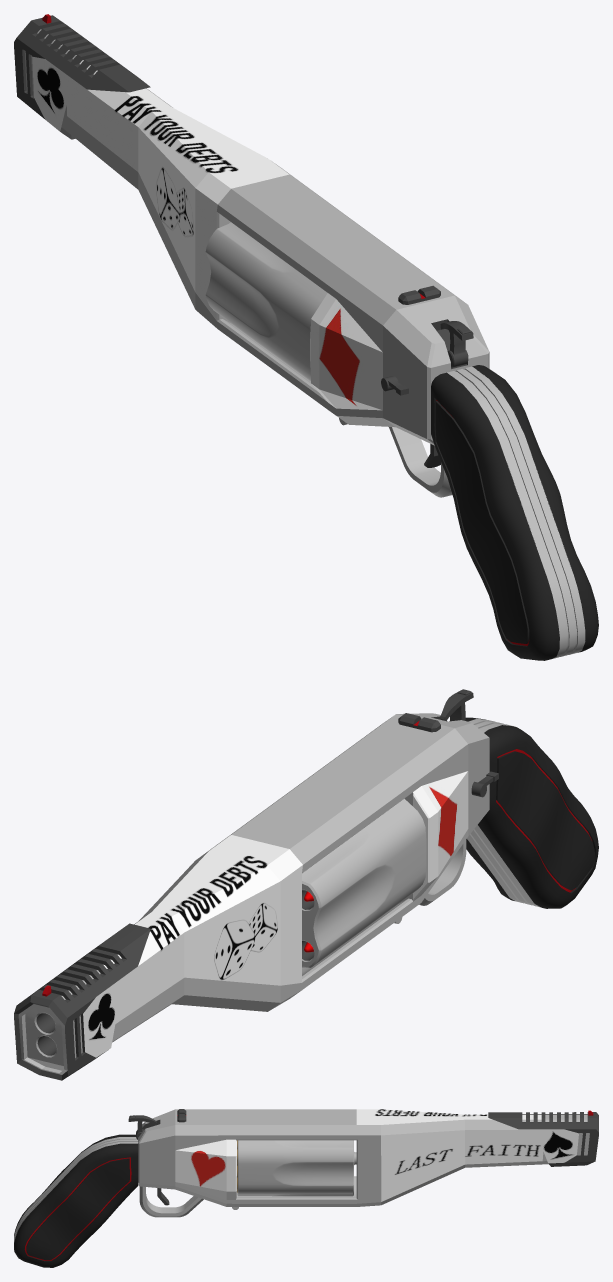
The model's file is Magnum_futuriste.glb.
3 renders of one model, top to bottom at view 1: azimuth 30°, elevation 25°; view 2: azimuth 150°, elevation 25°; view 3: azimuth 270°, elevation 25°, orthographic. The views are drawn at different scales.
Visible parts, largest first — view 1: barrel; view 2: barrel; view 3: barrel.
Part boxes in pixels (bbox=[...]): barrel: bbox=[14, 14, 598, 660]; barrel: bbox=[14, 689, 598, 1080]; barrel: bbox=[14, 1109, 598, 1267].
Size of the model in its own units: 0.0592 by 0.131 by 0.4599.
Materials: 11 (4 with a texture image).
